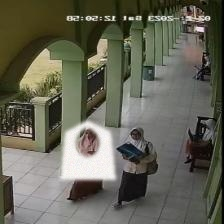Mukena: (60, 120, 116, 179)
